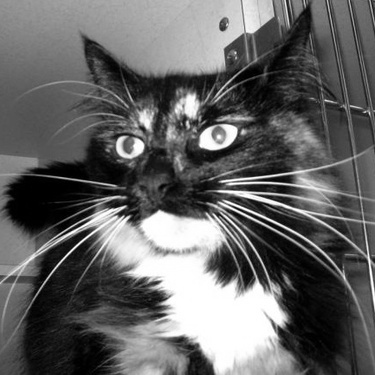cat: (9, 18, 352, 358)
